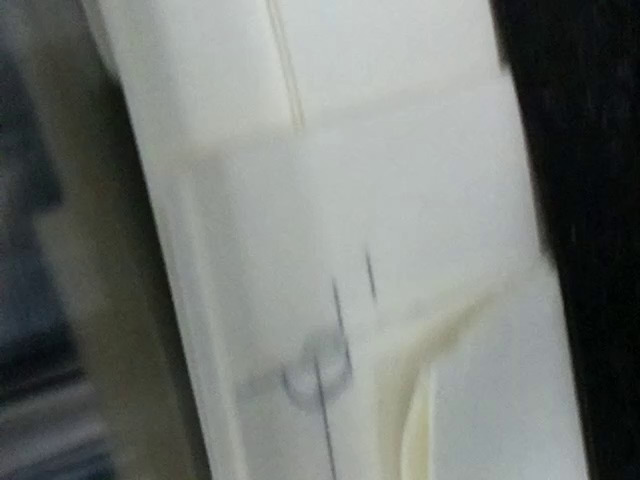not_sure: (243, 280, 372, 418)
